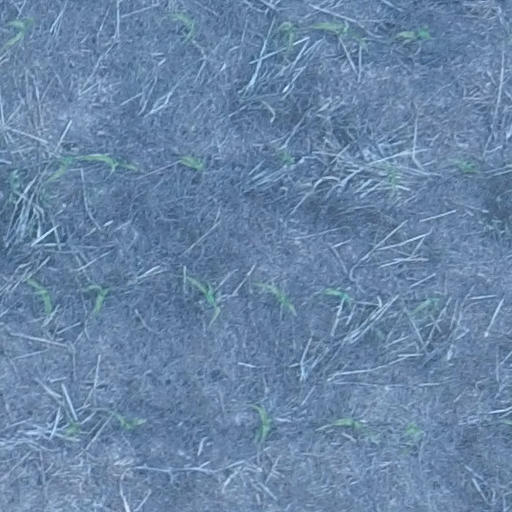planta: (185, 275, 224, 322), (77, 151, 138, 181), (309, 19, 368, 46), (252, 278, 296, 313), (22, 273, 55, 318), (329, 414, 377, 440), (2, 16, 36, 50), (45, 153, 80, 183), (250, 403, 274, 441), (86, 282, 112, 317), (169, 10, 197, 42), (277, 20, 298, 53), (395, 24, 433, 42), (321, 284, 352, 305), (114, 412, 145, 432), (381, 162, 402, 191), (178, 153, 206, 173), (412, 295, 439, 315), (62, 418, 83, 440), (403, 419, 424, 440), (455, 158, 479, 176), (276, 149, 295, 165), (7, 170, 22, 190)
